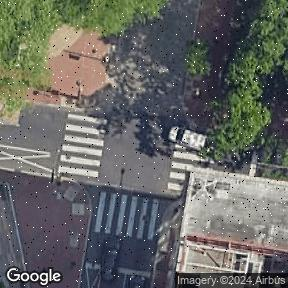vegetation: (185, 41, 212, 77)
